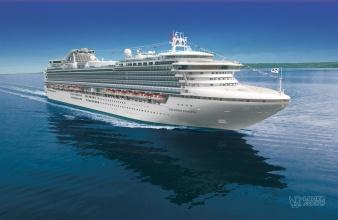youlun: (40, 31, 292, 132)
